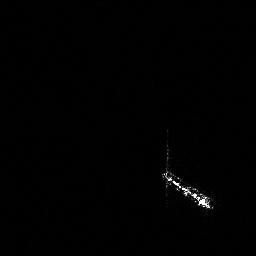ship: (159, 167, 216, 213)
